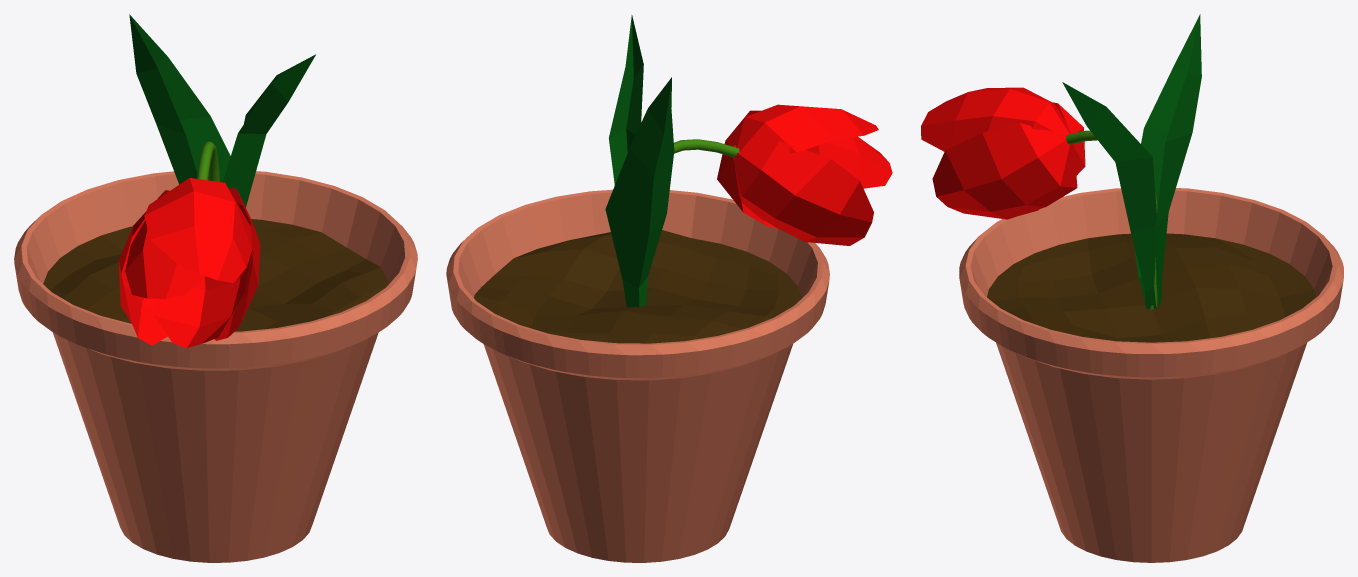
File: flower_state_bad.glb
3 renders of one model, left to right at view 1: azimuth 30°, elevation 25°; view 2: azimuth 150°, elevation 25°; view 3: azimuth 270°, elevation 25°, orthographic. The views are drawn at different scales.
Parts seen in each view (by area): view 1: Pot, Bulb, Dirt, Leafs, Stem; view 2: Pot, Dirt, Bulb, Leafs, Stem; view 3: Pot, Dirt, Bulb, Leafs.
Boxes of the visible parts, left/top/right/bottom form: Pot: left=14, top=171, right=417, bottom=562; Bulb: left=118, top=178, right=260, bottom=347; Dirt: left=43, top=219, right=388, bottom=331; Leafs: left=129, top=14, right=315, bottom=207; Stem: left=197, top=141, right=219, bottom=181; Pot: left=446, top=189, right=829, bottom=562; Dirt: left=474, top=230, right=802, bottom=343; Bulb: left=717, top=104, right=892, bottom=245; Leafs: left=605, top=15, right=674, bottom=307; Stem: left=674, top=139, right=739, bottom=157; Pot: left=959, top=188, right=1343, bottom=562; Dirt: left=987, top=233, right=1316, bottom=342; Bulb: left=921, top=87, right=1085, bottom=219; Leafs: left=1062, top=14, right=1201, bottom=309.
Size of the model in its own units: 2.16 by 2.98 by 2.37.
